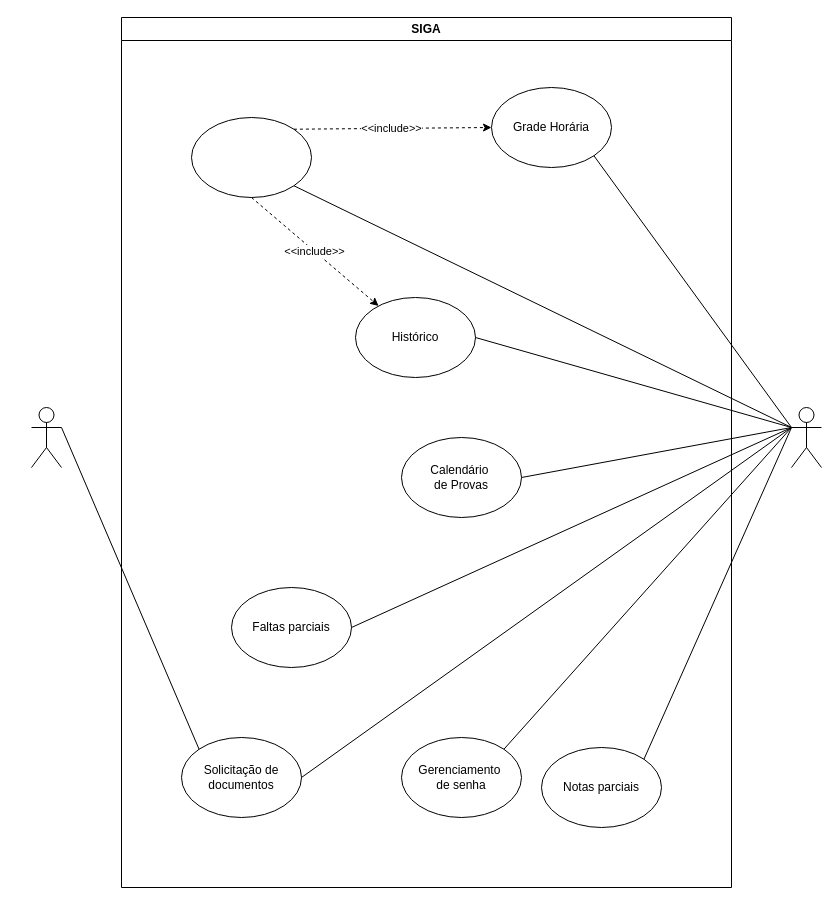
This 839x905 diagram has some shape labels left out. The shapes that lost their labels are listed below. From the top down, each one's centre as x and y in pixels, then its label:
(x=251, y=157): Matrícula Online
(x=46, y=437): Secretaria Acadêmica
(x=806, y=437): Aluno
